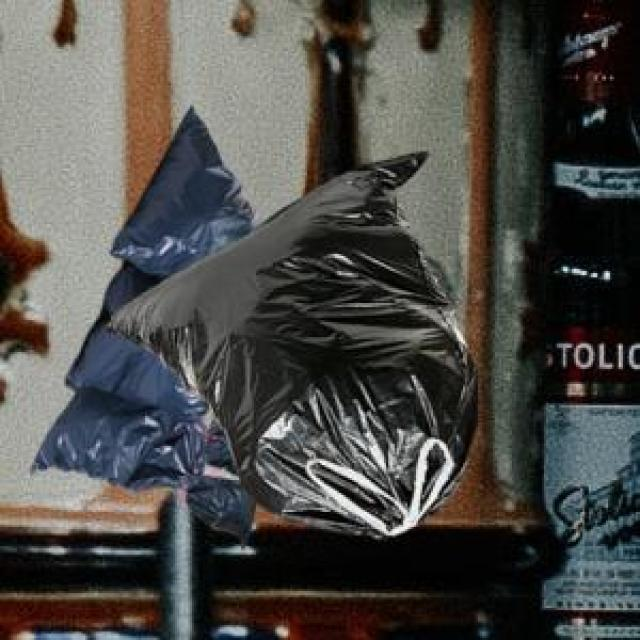waste: (34, 109, 475, 537)
